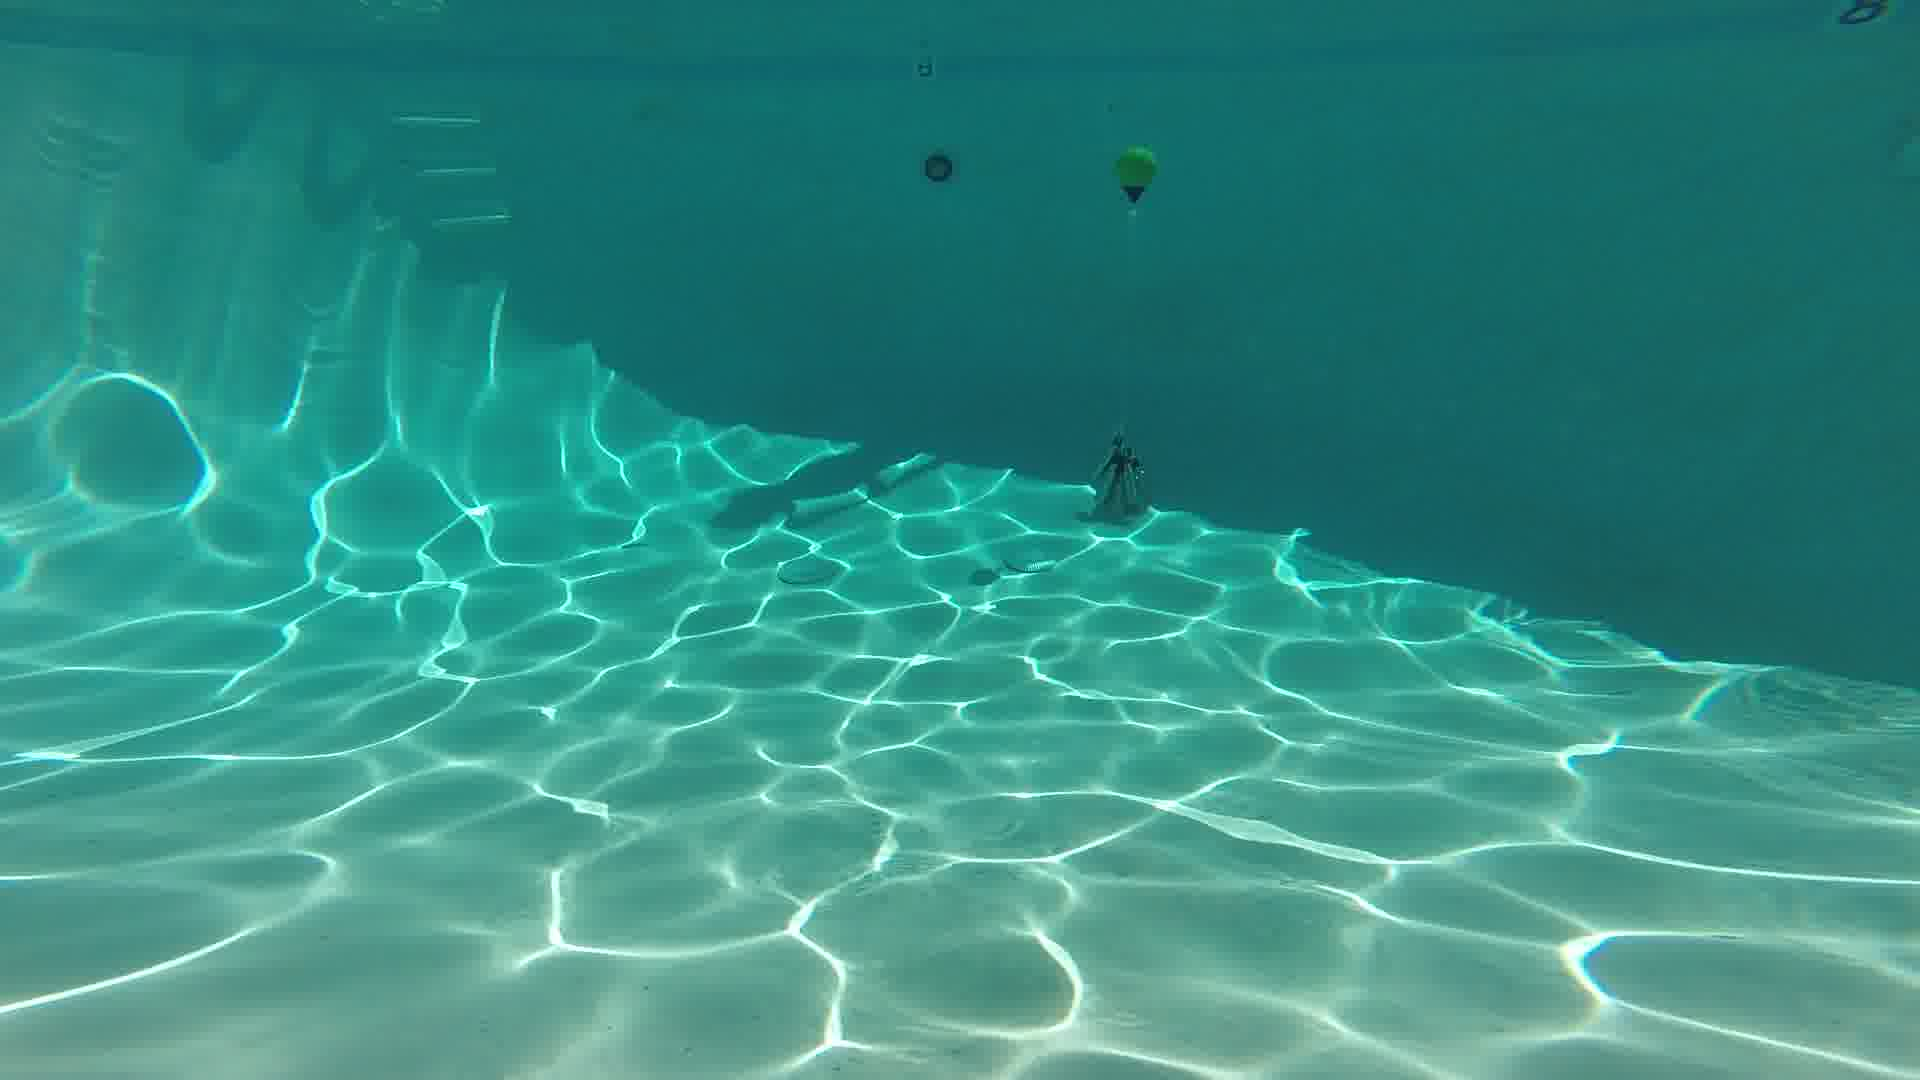yellow_buoy: (1116, 146, 1154, 202)
